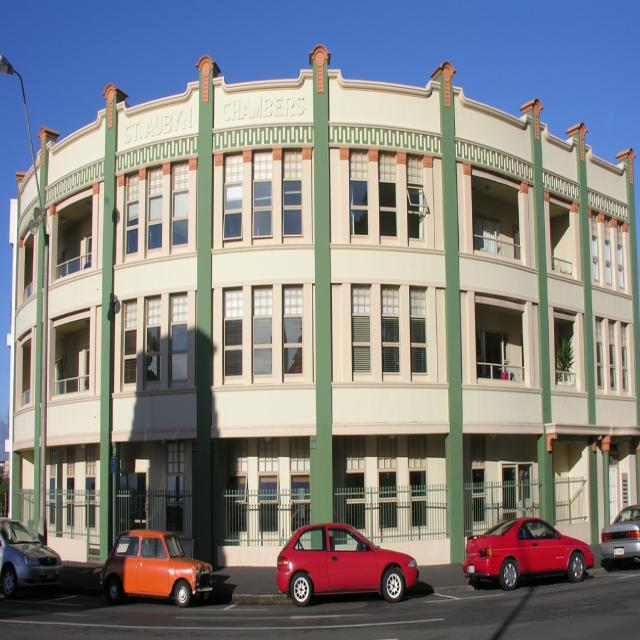car: (271, 521, 416, 602), (461, 513, 597, 594), (98, 523, 218, 611), (0, 515, 62, 597), (597, 495, 639, 572)
